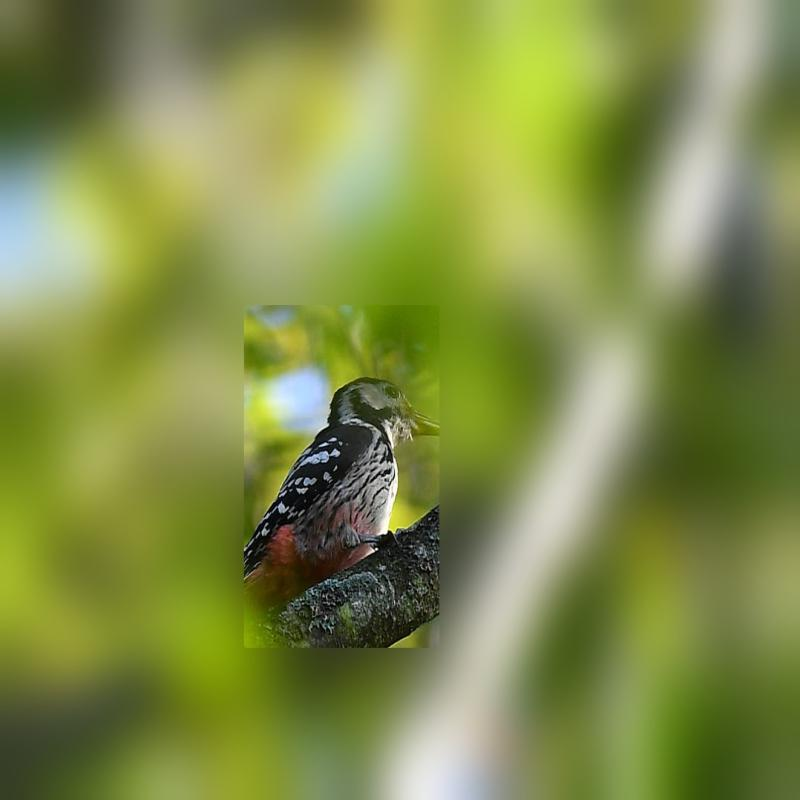white-backed woodpecker: (236, 368, 441, 621)
